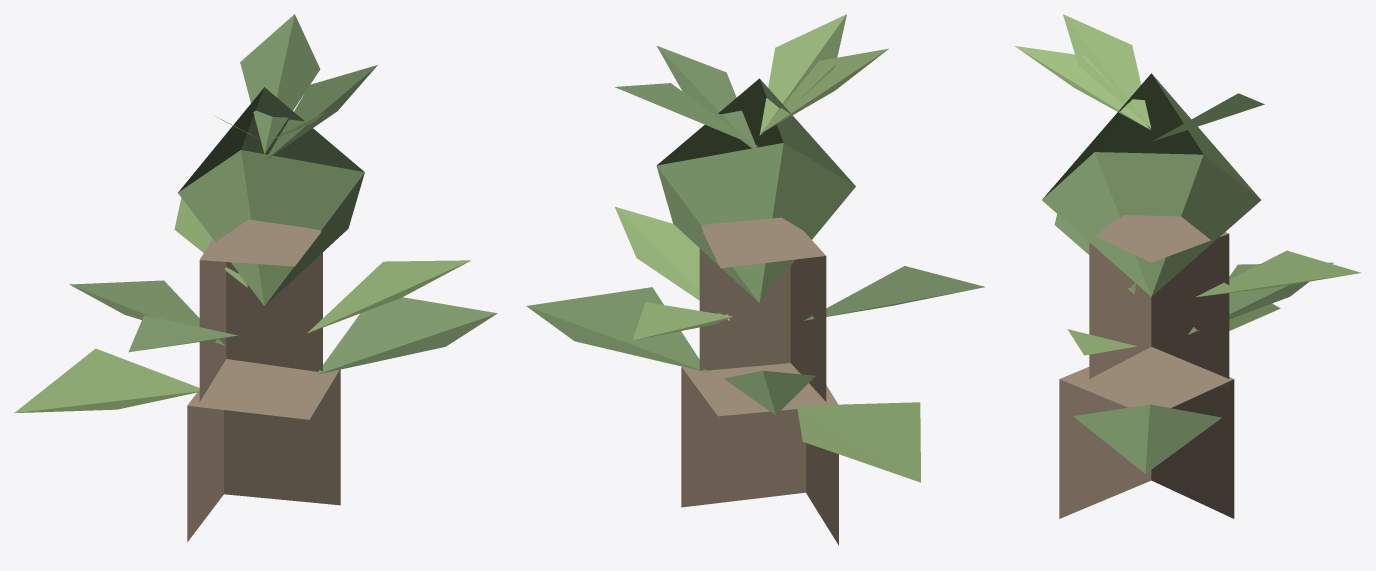
Rendered from nong.dao@seedling__bloom.glb.
3 views of the same model, side by side, from view 1: azimuth 30°, elevation 25°; view 2: azimuth 150°, elevation 25°; view 3: azimuth 270°, elevation 25° (orthographic). The views are drawn at different scales.
Parts seen in each view (by area): view 1: nong.dao@seedling__bloom; view 2: nong.dao@seedling__bloom; view 3: nong.dao@seedling__bloom.
Part boxes in pixels (left/top/right/bottom): nong.dao@seedling__bloom: left=14, top=14, right=497, bottom=541; nong.dao@seedling__bloom: left=526, top=14, right=984, bottom=545; nong.dao@seedling__bloom: left=1015, top=14, right=1360, bottom=518.
Size of the model in its own units: 0.0881 by 0.0881 by 0.0598.
